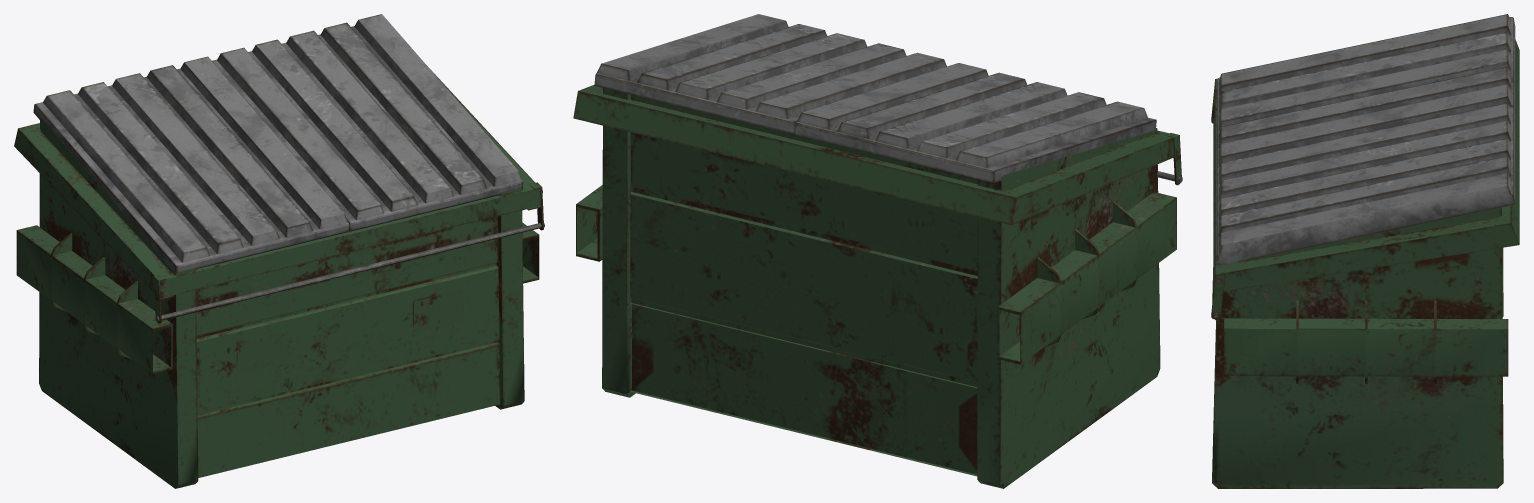
Rendered from Trash.glb.
3 views of the same model, side by side, from view 1: azimuth 30°, elevation 25°; view 2: azimuth 150°, elevation 25°; view 3: azimuth 270°, elevation 25° (orthographic). The views are drawn at different scales.
Size of the model in its own units: 2.33 by 1.66 by 1.53.
Materials: 1 (1 with a texture image).
